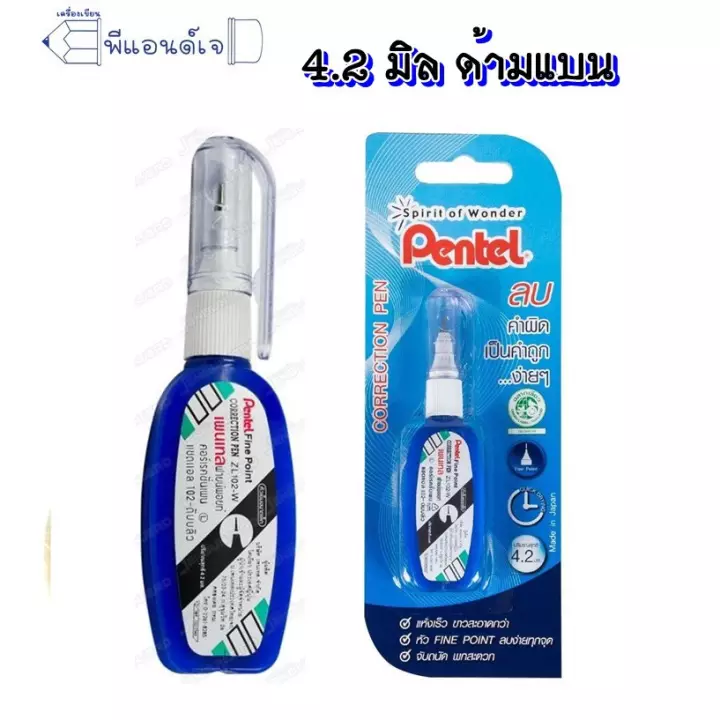Correction_fluid: (140, 126, 301, 680), (399, 285, 486, 598)
